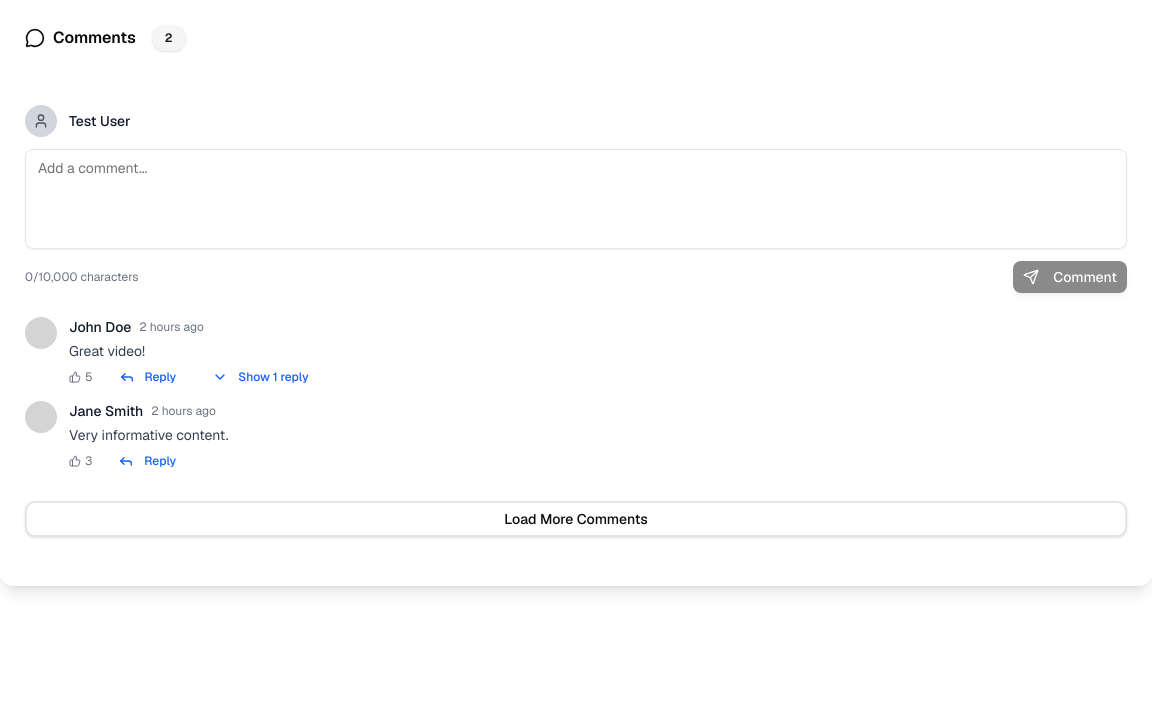
Scenario: CommentsSection › should show reply form when reply button is clicked
Expected: the text "Great video!" is shown, [69,342,145,360]
Note: Click reply button (get the first one)
Click the button "Reply" below "Great video!".
click(147, 377)  # box [108,369,186,385]
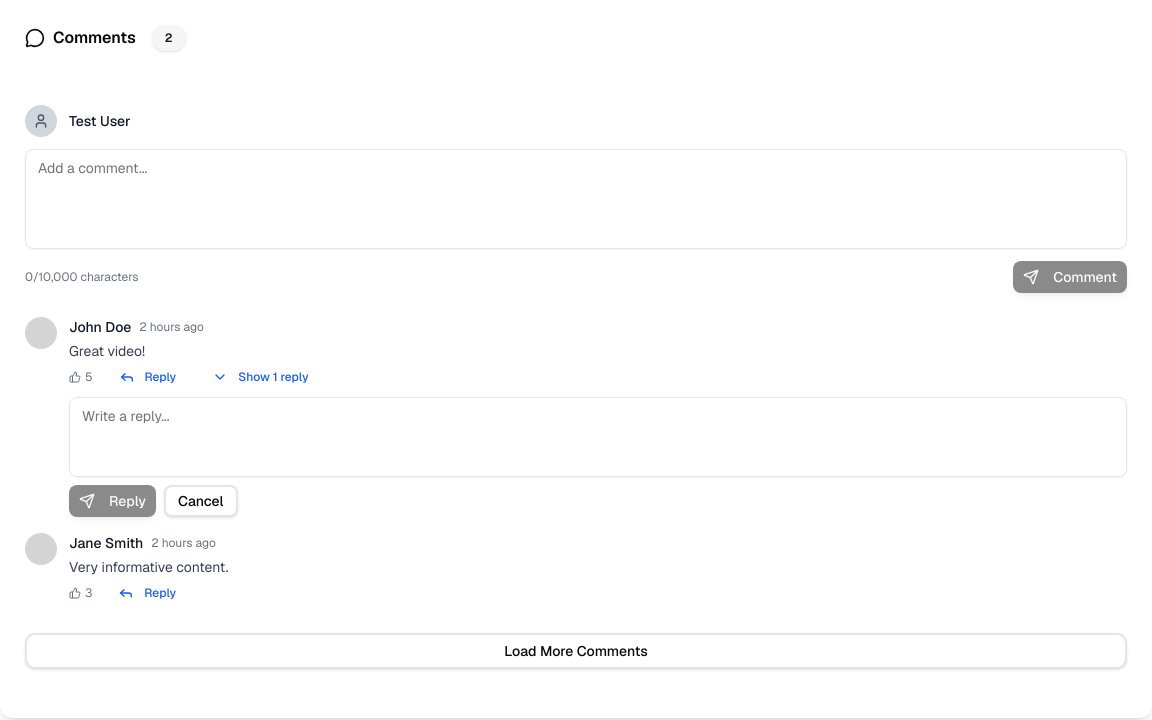
Now the text box with placeholder "Write a reply..." is shown, box [69,397,1127,477]
